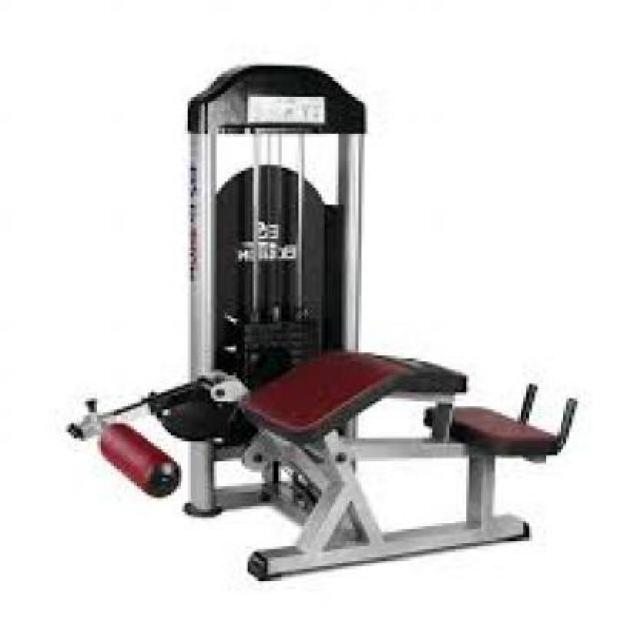reg curl machine: (63, 57, 583, 580)
